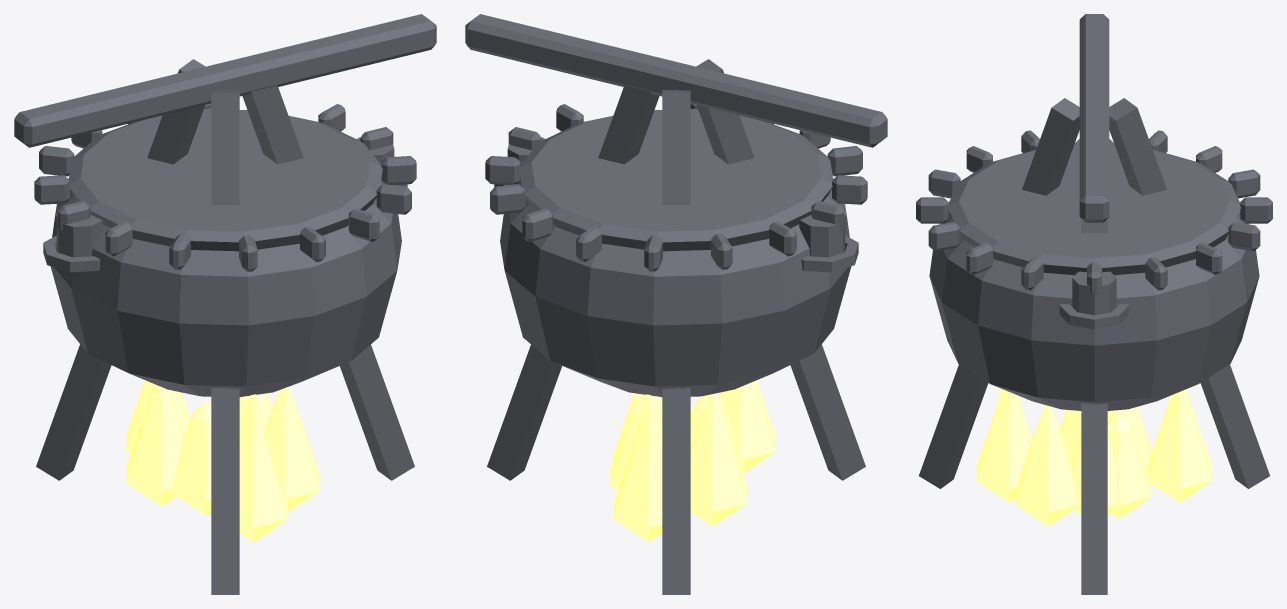
Rendered from fantasy-mmo-city-and-townsfolk-iron-cauldron-ffaa4331__32759.glb.
3 views of the same model, side by side, from view 1: azimuth 30°, elevation 25°; view 2: azimuth 150°, elevation 25°; view 3: azimuth 270°, elevation 25° (orthographic). The views are drawn at different scales.
Visible parts, largest first — view 1: iron-cauldron; view 2: iron-cauldron; view 3: iron-cauldron.
Boxes of the visible parts, x1,y1,x2,y2 form: iron-cauldron: (14,14,436,594); iron-cauldron: (465,14,887,594); iron-cauldron: (916,14,1272,594).
Size of the model in its own units: 1.5 by 1.55 by 1.21.
